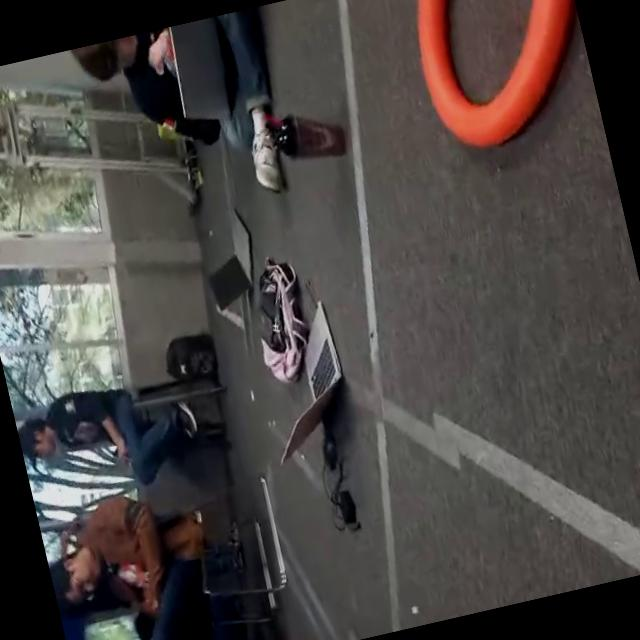note: (392, 0, 604, 167)
